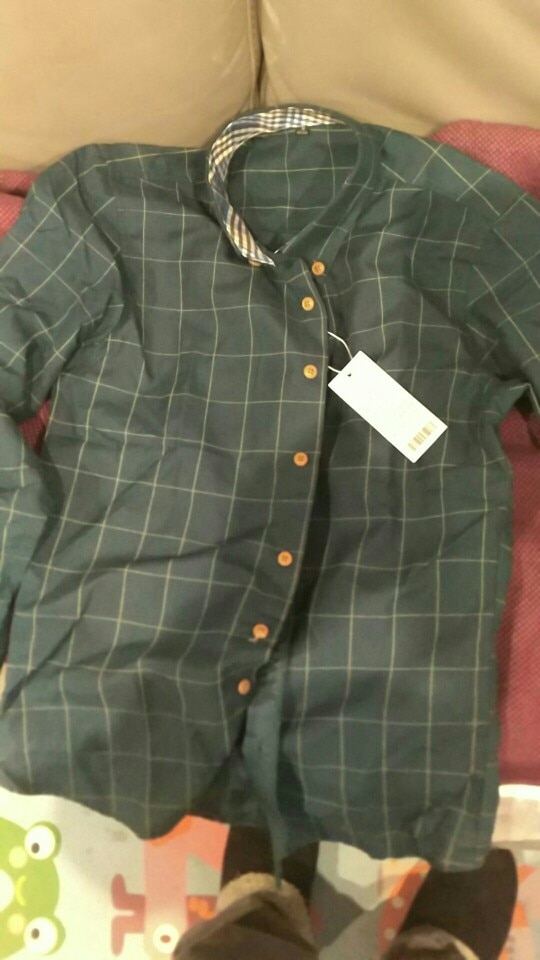shirts: (41, 108, 540, 789)
